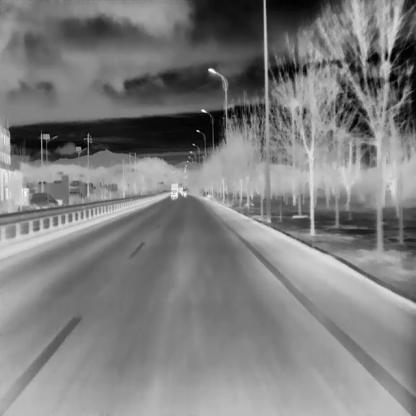car: (28, 195, 53, 207), (171, 188, 178, 199), (171, 182, 178, 193), (181, 189, 187, 195)
